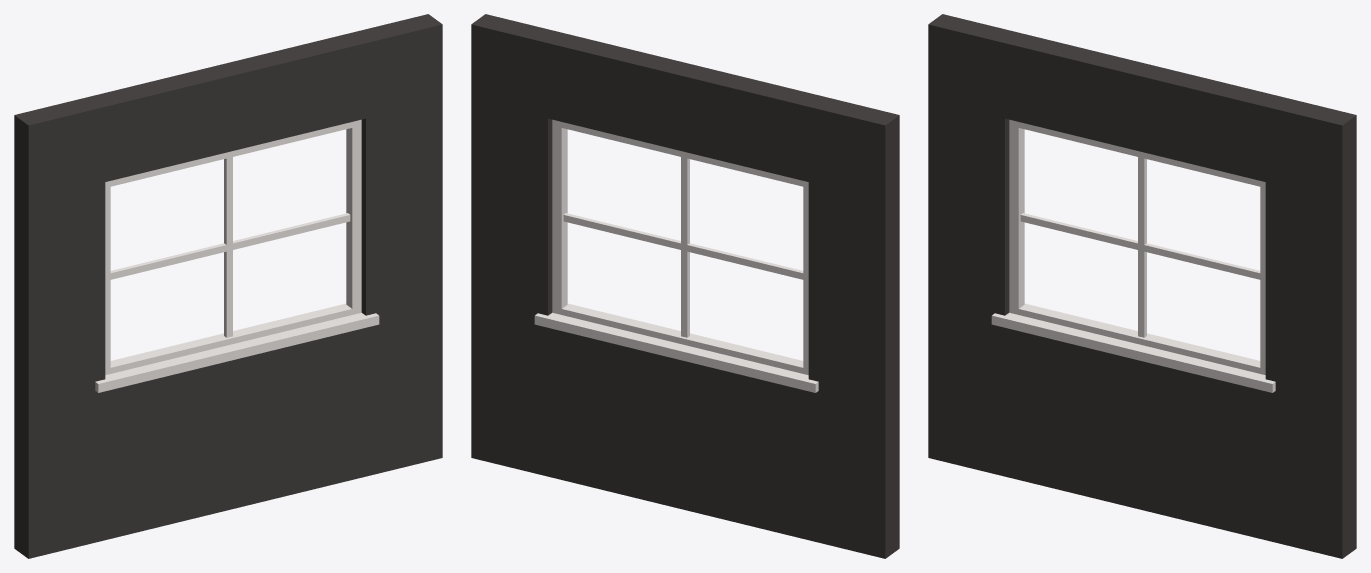
The model's file is Wall_13.fbx.
The picture shows the model from 3 angles, left to right: view 1: azimuth 30°, elevation 25°; view 2: azimuth 150°, elevation 25°; view 3: azimuth 330°, elevation 25°; orthographic projection.
Parts seen in each view (by area): view 1: Wall_13; view 2: Wall_13; view 3: Wall_13.
Part boxes in pixels (box(x1,y1,x2,y2)): Wall_13: box(14, 14, 442, 558); Wall_13: box(471, 14, 899, 558); Wall_13: box(928, 14, 1356, 558).
Size of the model in its own units: 259 by 259 by 22.34.
